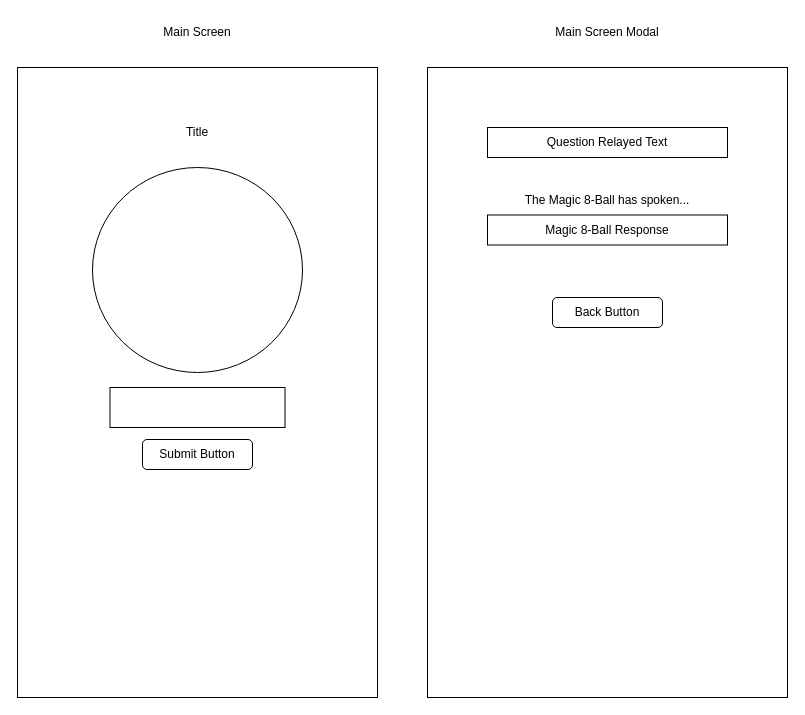
The diagram is 805 pixels wide and 715 high, and some of its shapes have lost their labels. The centre of each missing label's shape, as x and y in pixels:
Magic 8-Ball: (197,269)
Question Input Field: (197,407)
